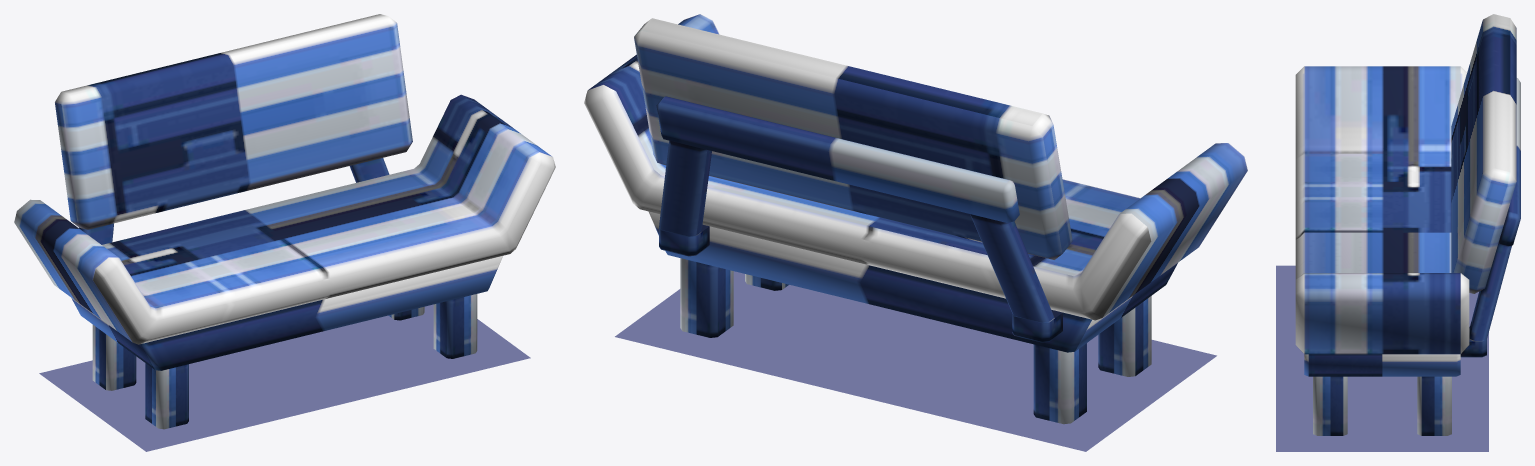
Rendered from rmk_str_chairL.fbx.
3 renders of one model, left to right at view 1: azimuth 30°, elevation 25°; view 2: azimuth 150°, elevation 25°; view 3: azimuth 270°, elevation 25°, orthographic. The views are drawn at different scales.
Visible parts, largest first — view 1: rmk_str_chairL, sdw_square; view 2: rmk_str_chairL, sdw_square; view 3: rmk_str_chairL, sdw_square.
Boxes of the visible parts, <box> form: rmk_str_chairL: <box>14,14,555,429</box>; sdw_square: <box>39,304,530,451</box>; rmk_str_chairL: <box>584,14,1247,424</box>; sdw_square: <box>615,271,1216,451</box>; rmk_str_chairL: <box>1295,14,1520,435</box>; sdw_square: <box>1276,265,1488,451</box>.
Size of the model in its own units: 0.1906 by 0.1062 by 0.088.
